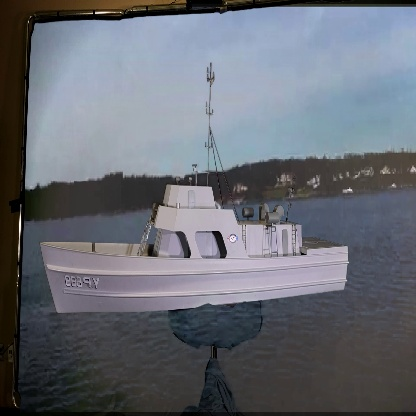YP689: (40, 62, 346, 318)
